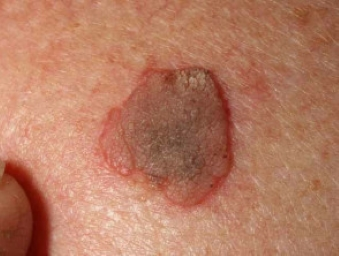seborrheic keratosis: (78, 36, 246, 211)
